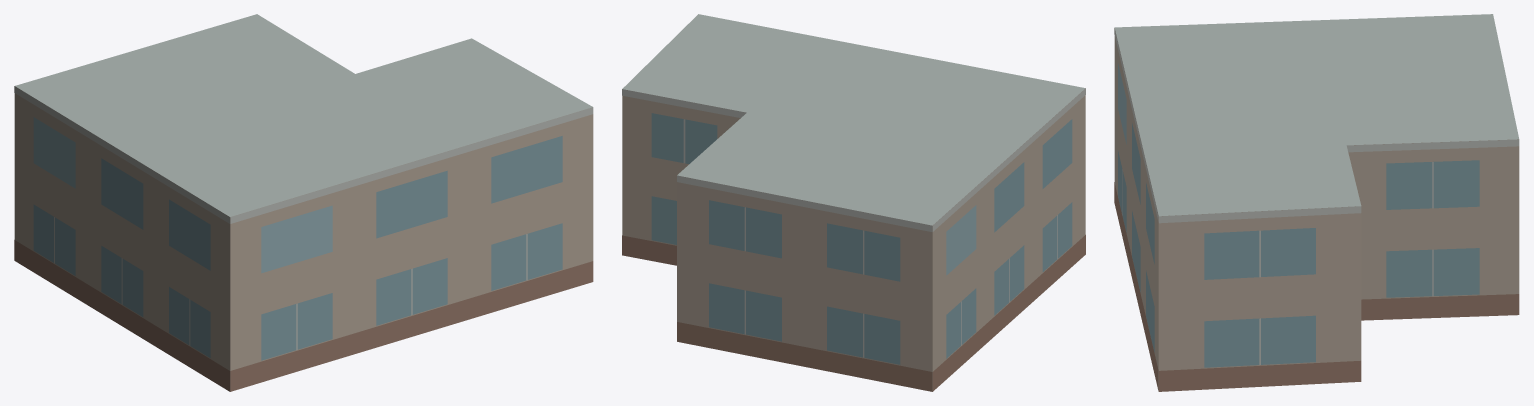
File: survey-upis-32764769.glb
3 renders of one model, left to right at view 1: azimuth 30°, elevation 25°; view 2: azimuth 150°, elevation 25°; view 3: azimuth 270°, elevation 25°, orthographic. The views are drawn at different scales.
Visible parts, largest first — view 1: survey-upis-32764769.tmp; view 2: survey-upis-32764769.tmp; view 3: survey-upis-32764769.tmp.
Boxes of the visible parts, x1=… form: survey-upis-32764769.tmp: x1=14, y1=14, x2=593, y2=391; survey-upis-32764769.tmp: x1=622, y1=14, x2=1085, y2=391; survey-upis-32764769.tmp: x1=1114, y1=14, x2=1519, y2=391.
Bounding box in the file's own units: 15.08 × 6.1 × 12.75.
